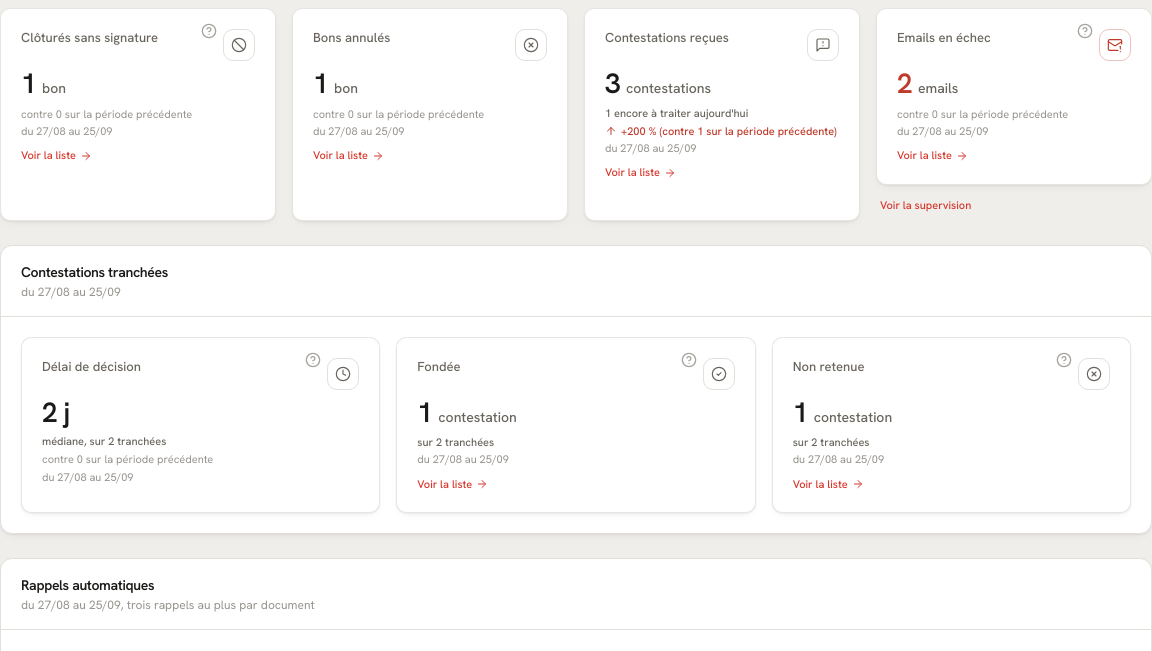
Scenario: IncidentsTab › tuile = liste › « Délai de décision » : une médiane, sans liste, et le « ? » le dit
The width and height of the screenshot is (1152, 651).
(page scrolled)
Click the button named "Définition : Délai de décision".
click(313, 360)  # box [291,338,335,382]
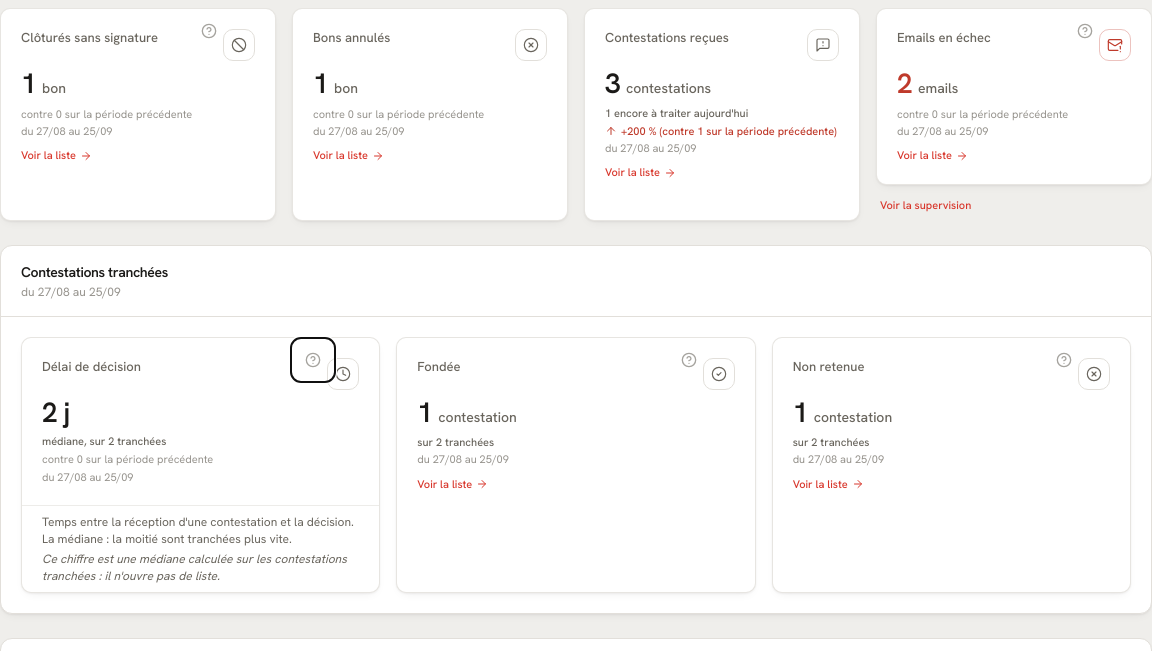
Result: the text "médiane calculée sur les contestations tranchées : il n'ouvre pas de liste" is shown at [42,551,347,584]
